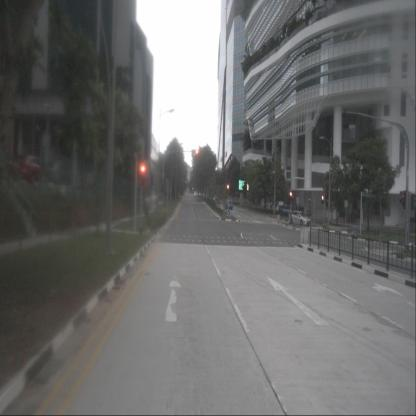vehicle-car: (10, 155, 52, 185), (289, 211, 311, 226), (225, 200, 233, 210)
